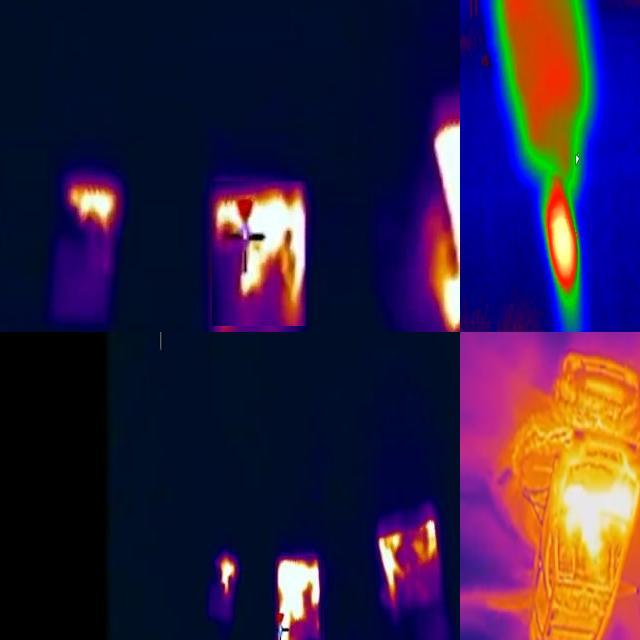fire: (213, 182, 307, 327), (426, 104, 464, 334), (560, 464, 640, 572), (376, 515, 445, 619), (546, 177, 583, 321), (276, 557, 324, 640), (68, 177, 120, 242), (217, 552, 239, 599)
